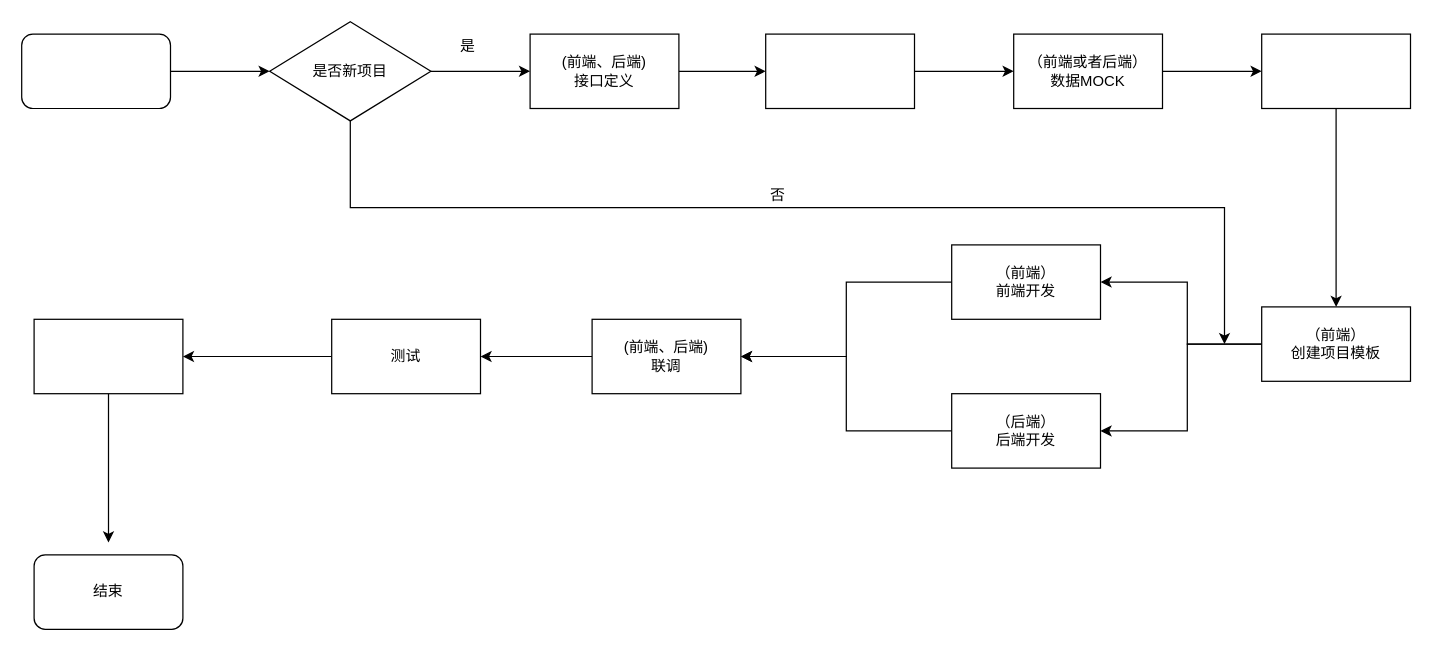
Some shapes in this 1432 by 651 pixel diagram are drawn without their labels. The centre of each missing label's shape, as x and y in pixels:
"开始" belongs at [95,70].
"（前端） 选择开发分支" belongs at [1335,70].
"（后端） 发布上线" belongs at [108,356].
"（后端） 生成接口文档" belongs at [839,70].
